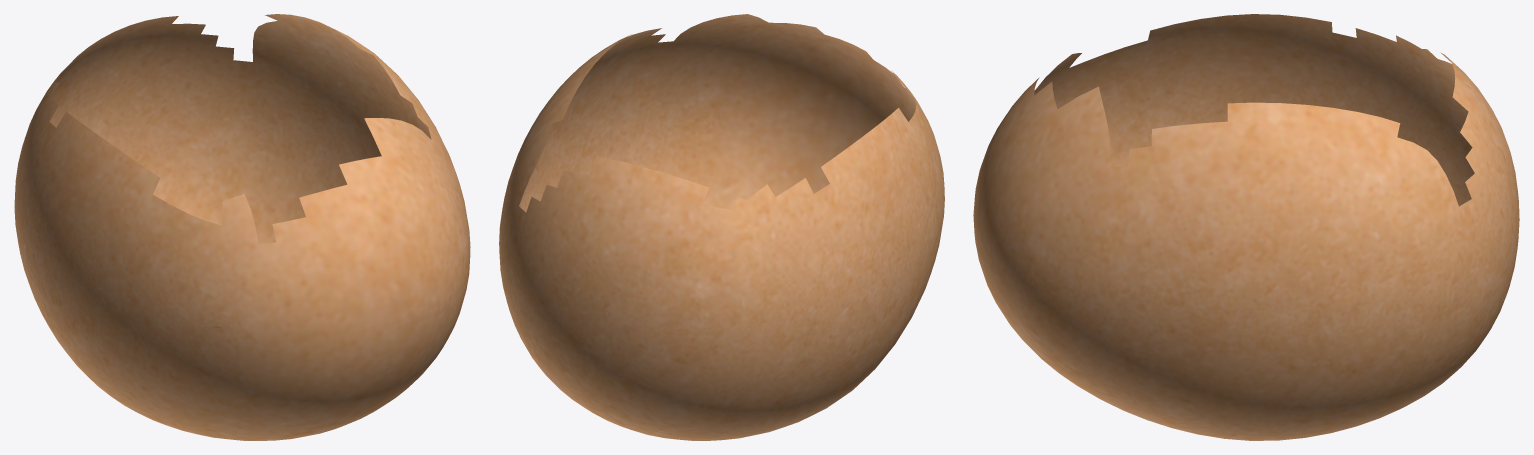
Rendered from Huevo.obj.
3 renders of one model, left to right at view 1: azimuth 30°, elevation 25°; view 2: azimuth 150°, elevation 25°; view 3: azimuth 270°, elevation 25°, orthographic. The views are drawn at different scales.
Visible parts, largest first — view 1: Huevo; view 2: Huevo; view 3: Huevo.
Boxes of the visible parts, box(x1,y1,x2,y2) form: Huevo: box(14, 14, 470, 440); Huevo: box(499, 14, 944, 440); Huevo: box(973, 14, 1519, 440).
Size of the model in its own units: 3.29 by 3.04 by 4.09.
1 material, 1 textured.
